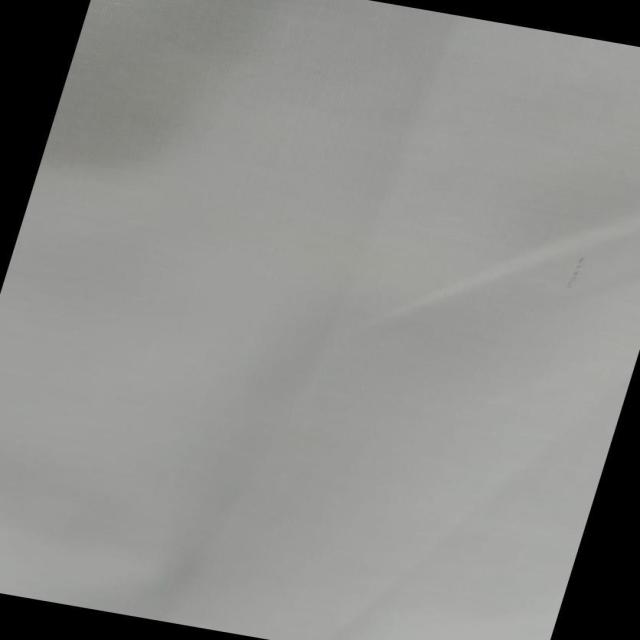contamination: (558, 248, 596, 300)
